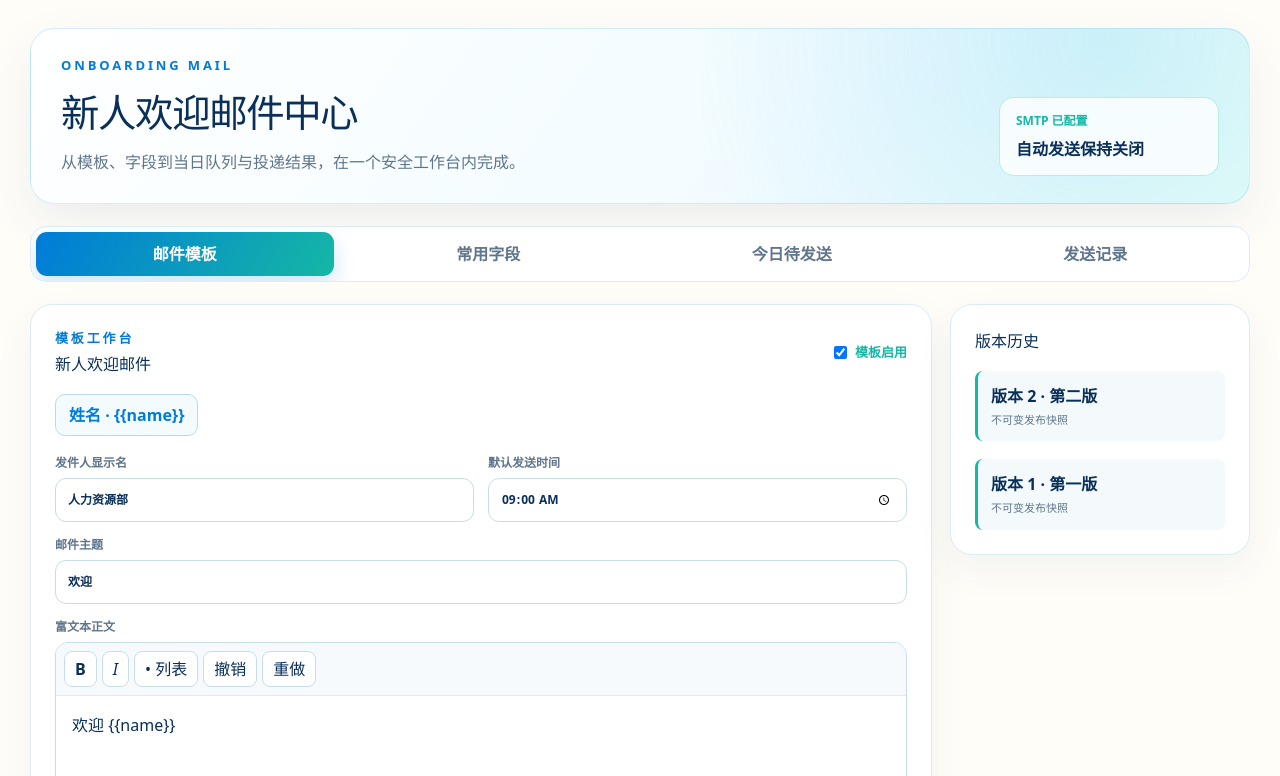
Test: onboarding mail center interactions › warns when operational lists are truncated
Expected: the heading "新人欢迎邮件中心" is shown, [61,86,357,138]
Click the tab "今日待发送". click: (792, 254)
box: [643,232,940,276]
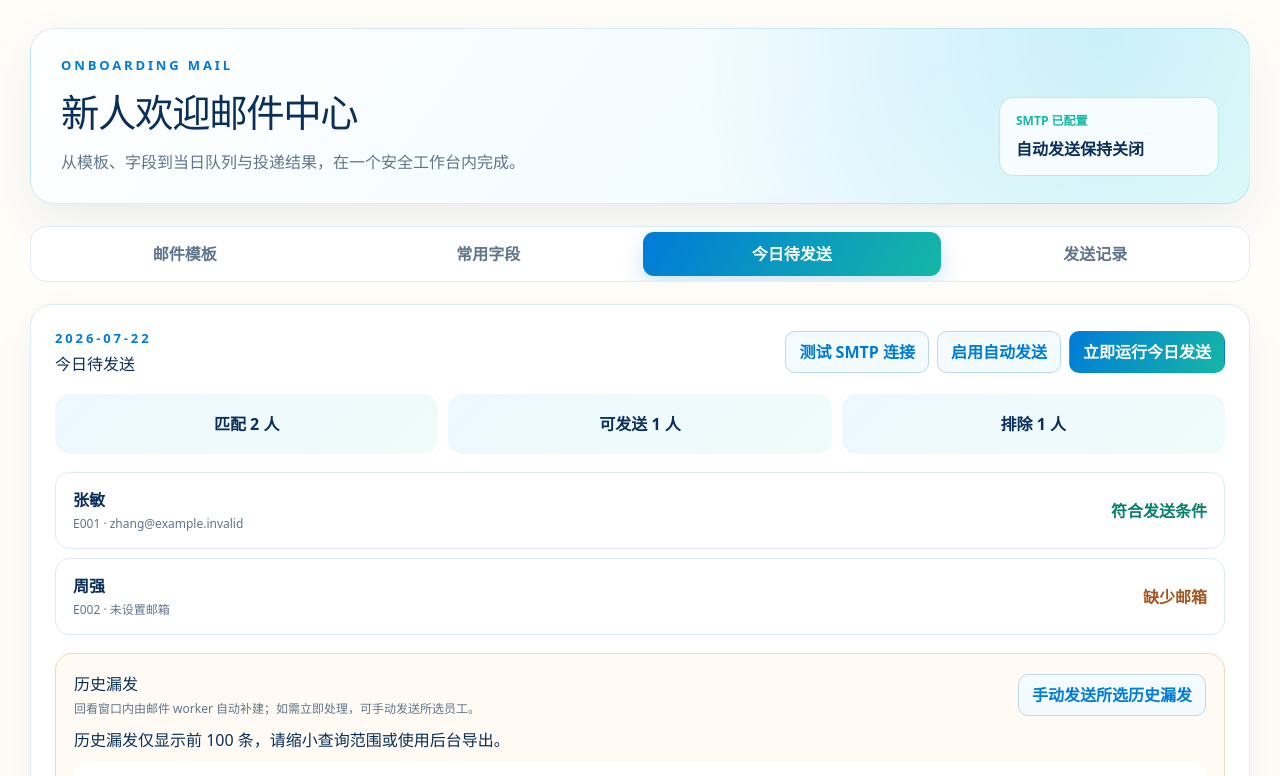
Expected: the text "历史漏发仅显示前 100 条，请缩小查询范围或使用后台导出。" is shown, [74,729,510,751]
Click the tab "发送记录". click: (1095, 254)
box: [946,232,1244,276]
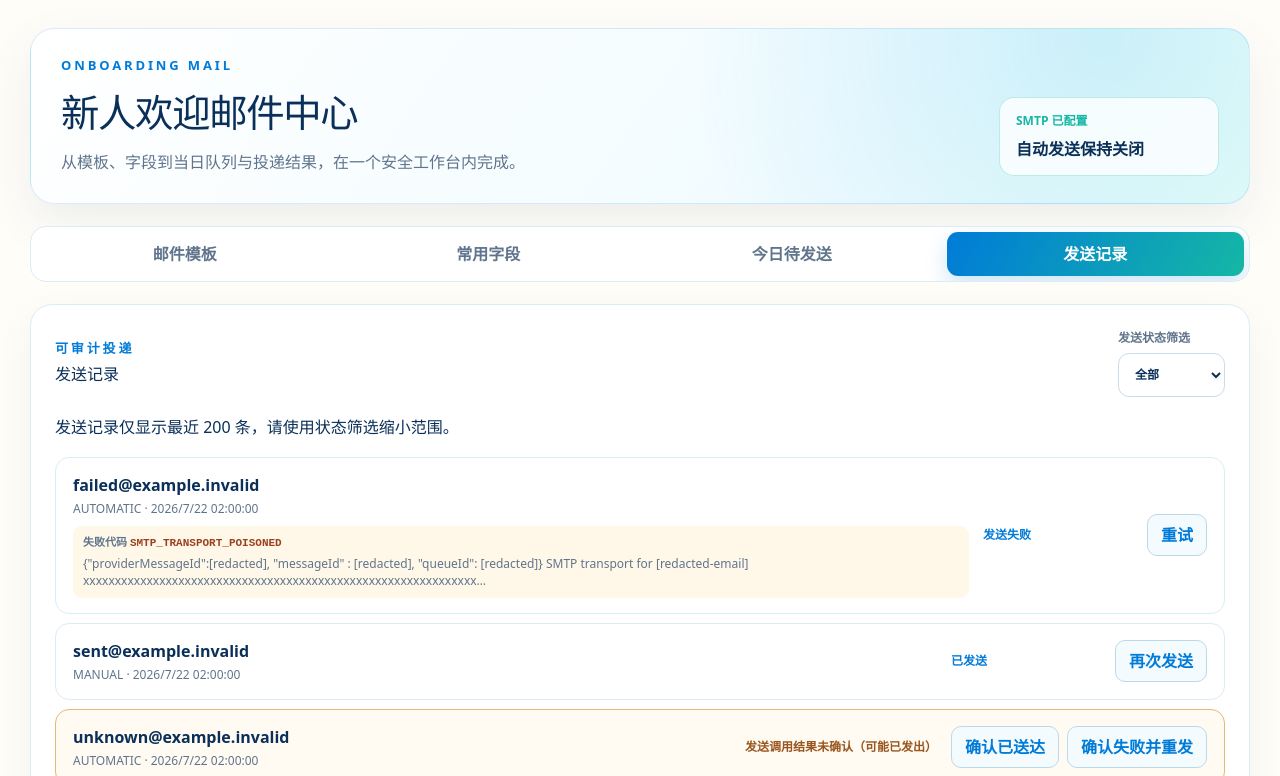
Expected: the text "发送记录仅显示最近 200 条，请使用状态筛选缩小范围。" is shown, [55,416,459,438]
